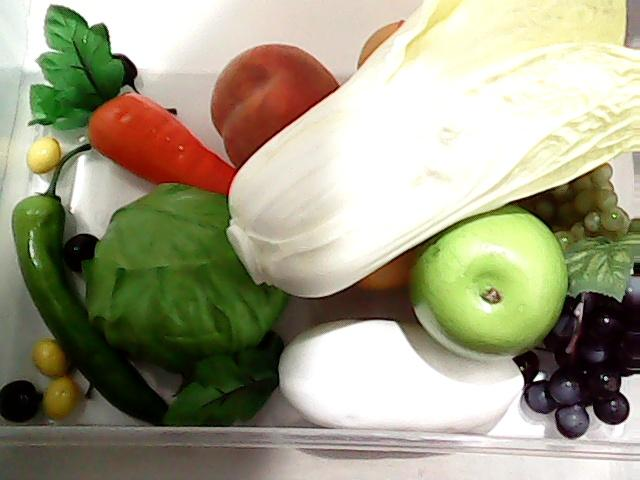apple: (406, 204, 568, 364), (418, 200, 562, 356)
cabbage: (84, 176, 288, 364)
carrot: (25, 3, 238, 193)
grape: (520, 231, 640, 439), (523, 155, 633, 273)
mango: (352, 251, 416, 297)
napa cabbage: (224, 0, 640, 298)
peach: (210, 41, 346, 171)
pepper: (8, 172, 188, 422)
potato: (356, 21, 404, 71)
radish: (168, 317, 526, 449)
